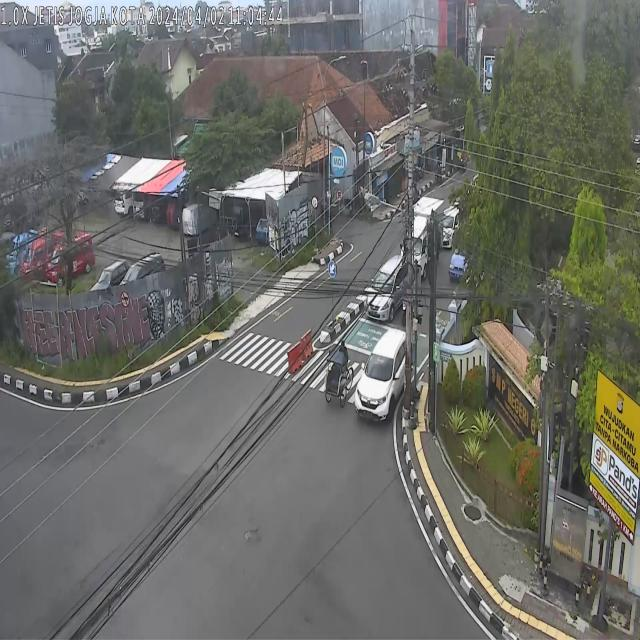car: (355, 329, 406, 423), (366, 255, 406, 320), (450, 240, 469, 282), (442, 207, 461, 247)
truck: (401, 196, 442, 277)
